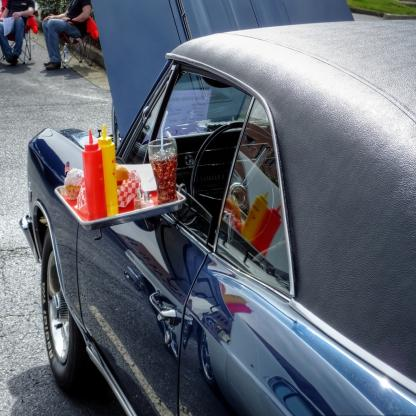Car: (19, 1, 416, 416)
